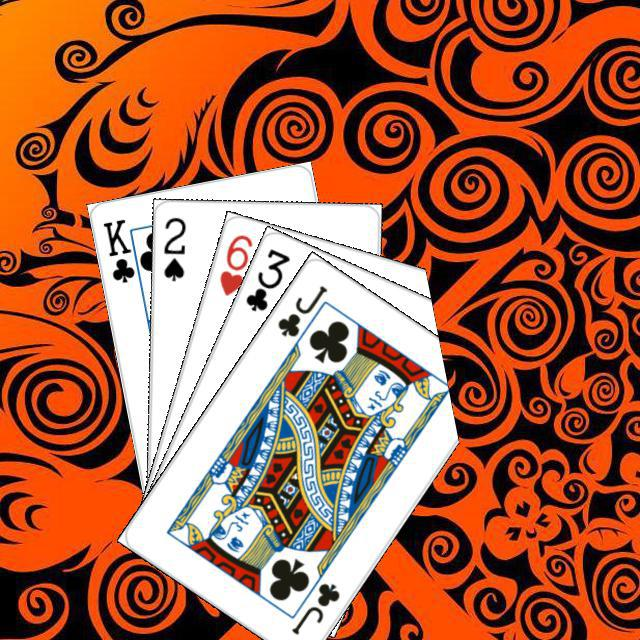2s: (158, 213, 188, 283)
3c: (240, 243, 292, 314)
6h: (214, 229, 255, 298)
Jc: (272, 280, 329, 339), (286, 578, 342, 637)
Kc: (97, 213, 144, 289)
